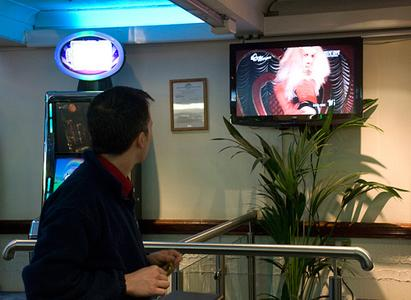person: (30, 87, 182, 299)
